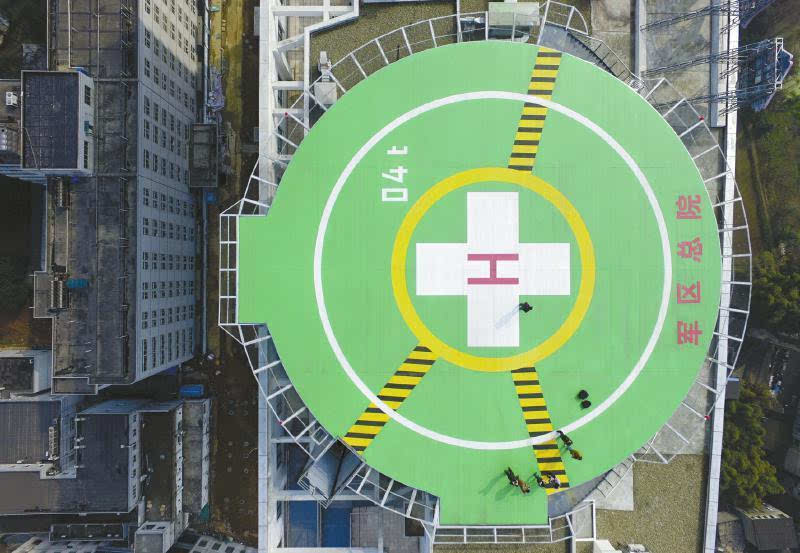Apron: (388, 168, 596, 373)
